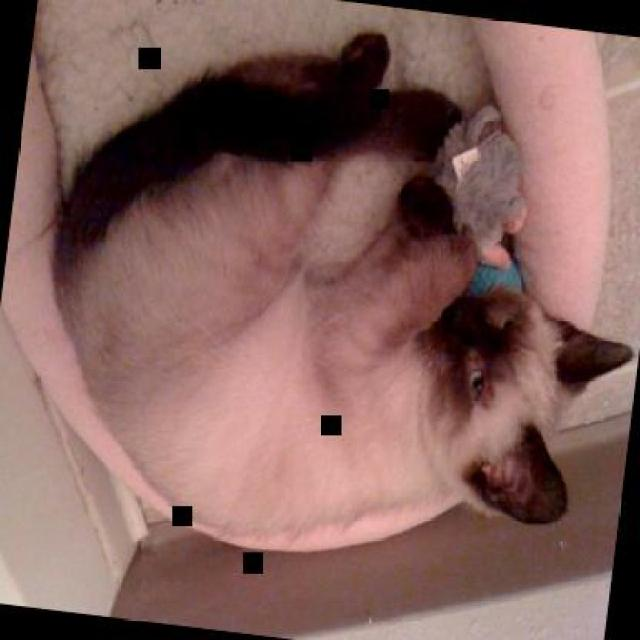cat: (24, 0, 638, 582)
